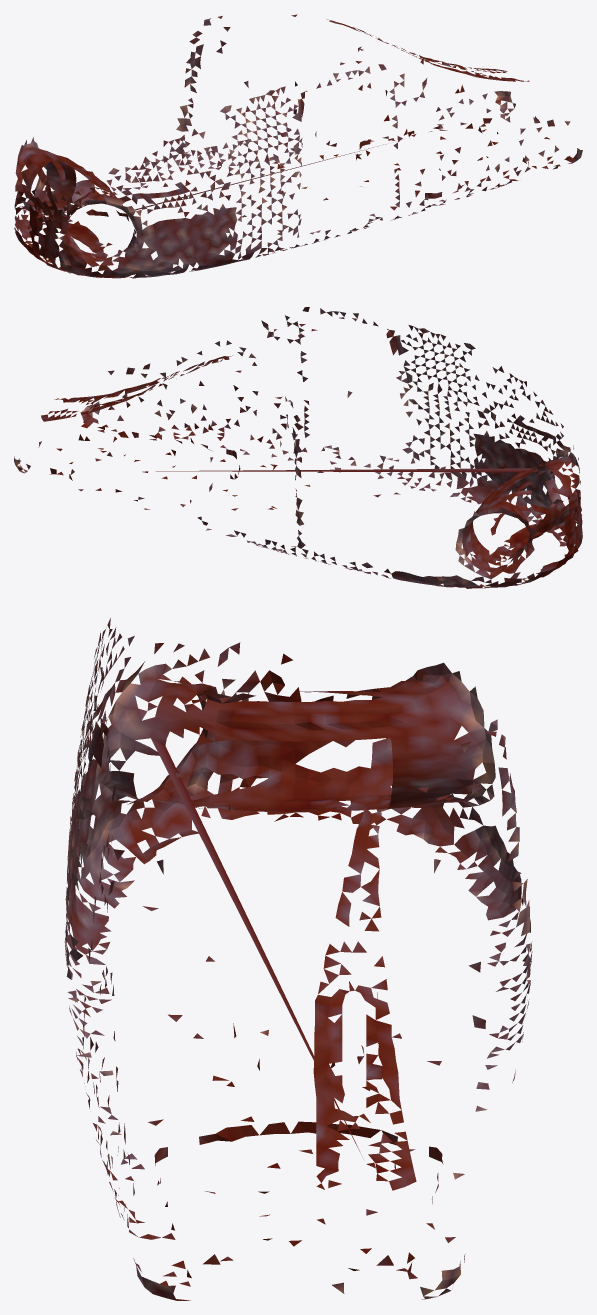
The model's file is whistle_final100.obj.
The picture shows the model from 3 angles, top to bottom: view 1: azimuth 30°, elevation 25°; view 2: azimuth 150°, elevation 25°; view 3: azimuth 270°, elevation 25°; orthographic projection. The views are drawn at different scales.
Bounding box in the file's own units: 1.91 × 0.5742 × 0.7488.
